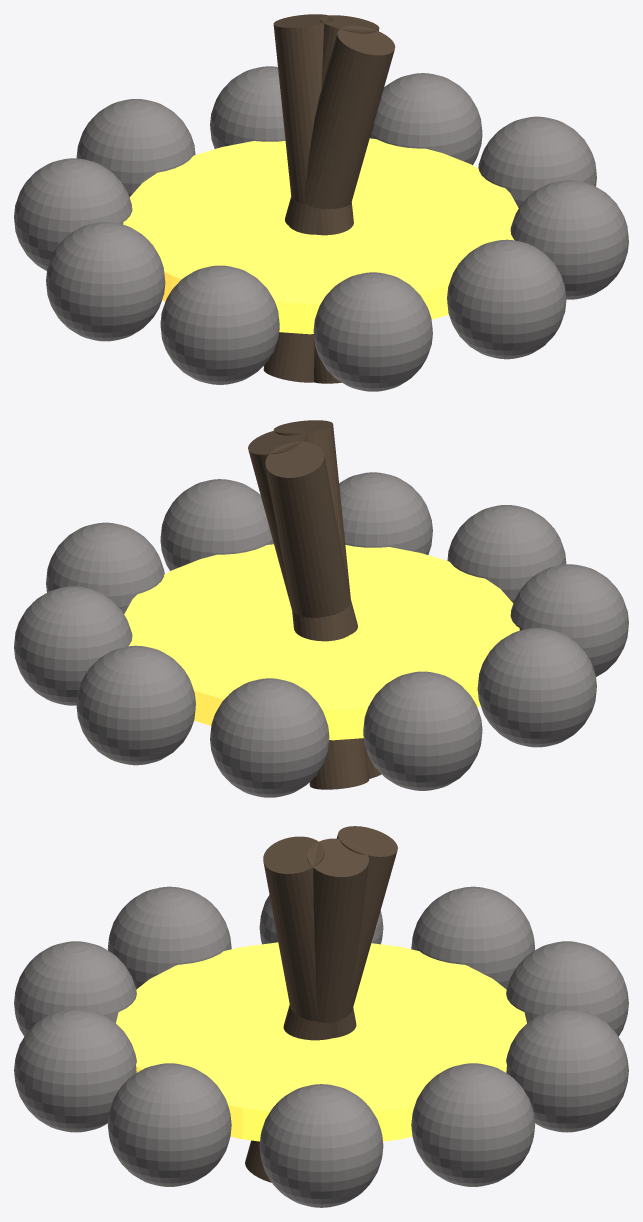
File: spire_campfire.gltf
3 renders of one model, top to bottom at view 1: azimuth 30°, elevation 25°; view 2: azimuth 150°, elevation 25°; view 3: azimuth 270°, elevation 25°, orthographic. The views are drawn at different scales.
Parts seen in each view (by area): view 1: Cylinder, Sphere.006, Sphere.008, Sphere.007, Sphere.005, Cylinder.001, Sphere.009, Sphere.004, Cylinder.003, Sphere.001, Sphere.003, Sphere (+2 smaller); view 2: Cylinder, Sphere.004, Sphere.002, Sphere.003, Sphere.005, Cylinder.003, Sphere.001, Sphere.006, Sphere.009, Sphere.007, Sphere, Sphere.008 (+2 smaller); view 3: Cylinder, Sphere, Sphere.001, Sphere.009, Sphere.002, Sphere.008, Sphere.004, Sphere.006, Cylinder.002, Sphere.003, Sphere.007, Cylinder.001 (+2 smaller).
Part boxes in pixels (x1,y1,x2,y2): Cylinder: (123,138,518,334); Sphere.006: (160,265,279,384); Sphere.008: (447,239,566,359); Sphere.007: (313,272,432,391); Sphere.005: (46,222,165,341); Cylinder.001: (263,25,395,366); Sphere.009: (510,180,628,299); Sphere.004: (14,158,132,270); Cylinder.003: (273,14,353,383); Sphere.001: (370,73,482,164); Sphere.003: (76,99,195,197); Sphere: (478,116,596,207); Cylinder: (124,544,519,740); Sphere.004: (363,671,482,790); Sphere.002: (76,645,195,765); Sphere.003: (210,678,329,797); Sphere.005: (477,628,596,747); Cylinder.003: (265,441,350,618); Sphere.001: (14,586,132,705); Sphere.006: (510,564,628,676); Sphere.009: (160,479,273,570); Sphere.007: (447,505,566,603); Sphere: (46,522,164,613); Sphere.008: (339,472,432,554); Cylinder: (116,942,526,1141); Sphere: (259,1084,383,1207); Sphere.001: (411,1063,535,1186); Sphere.009: (107,1063,231,1186); Sphere.002: (506,1008,628,1132); Sphere.008: (14,1008,136,1132); Sphere.004: (411,886,535,989); Sphere.006: (107,886,231,989); Cylinder.002: (307,838,368,1023); Sphere.003: (506,941,628,1036); Sphere.007: (14,941,136,1036); Cylinder.001: (263,836,356,1038).
Size of the model in its own units: 1.86 by 1.11 by 1.79.
